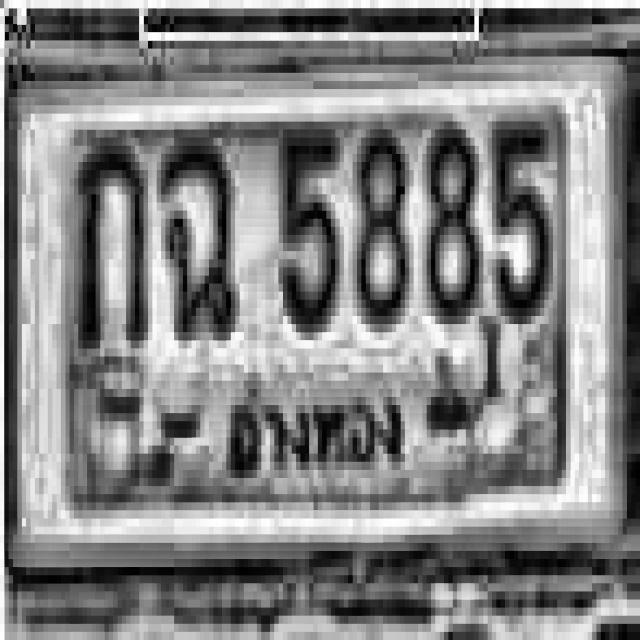license-plate: (8, 51, 628, 570)
